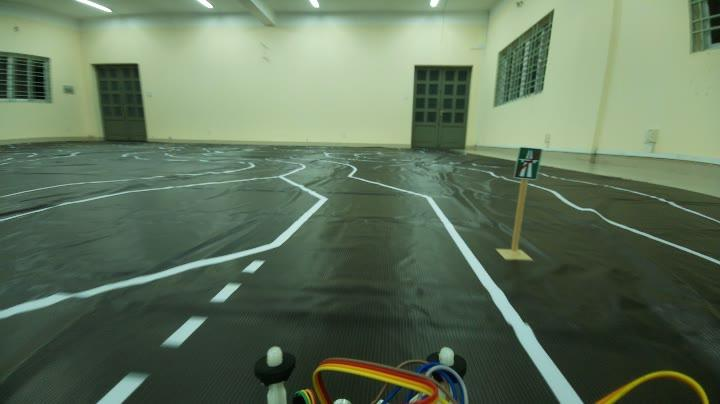highway_exit: (508, 143, 544, 184)
